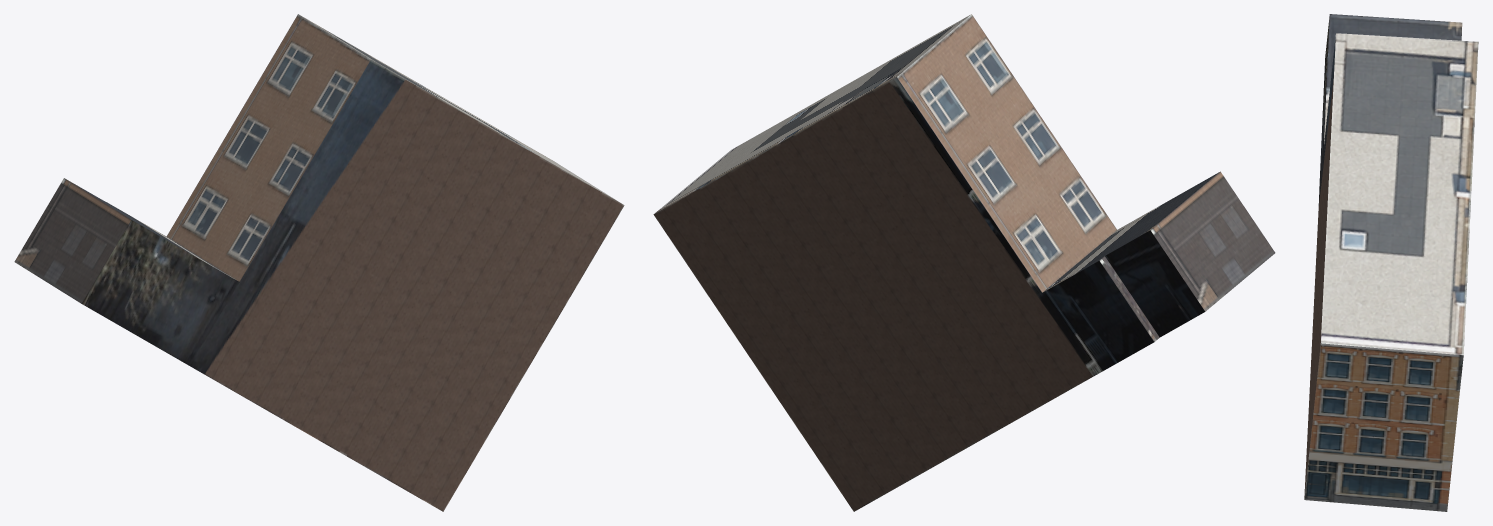
3 renders of one model, left to right at view 1: azimuth 30°, elevation 25°; view 2: azimuth 150°, elevation 25°; view 3: azimuth 270°, elevation 25°, orthographic. The views are drawn at different scales.
Visible parts, largest first — view 1: BAG_0599100000671694 (×4); view 2: BAG_0599100000671694 (×5); view 3: BAG_0599100000671694 (×4).
Part boxes in pixels (left/top/right/bottom): BAG_0599100000671694 (×4): left=14, top=14, right=624, bottom=511; BAG_0599100000671694 (×5): left=653, top=14, right=1275, bottom=511; BAG_0599100000671694 (×4): left=1304, top=14, right=1478, bottom=511.
Bounding box in the file's own units: 27.11 × 22.15 × 7.77.
Materials: 1 (1 with a texture image).
